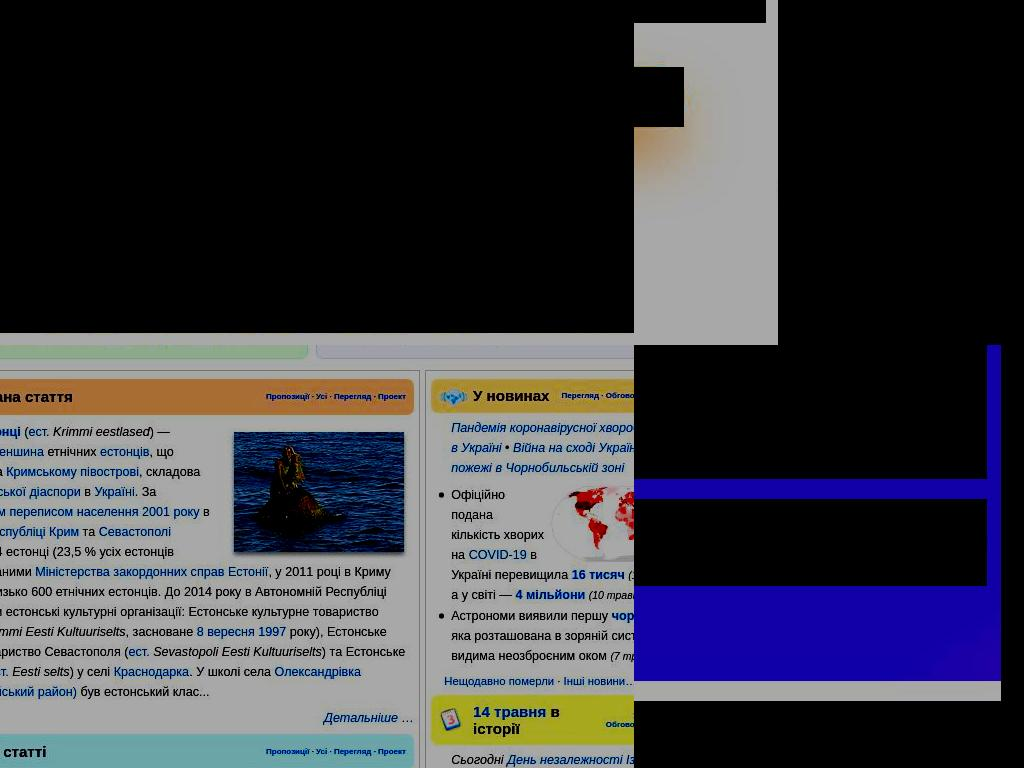button: (0, 0, 634, 333), (634, 701, 1024, 768), (833, 319, 873, 345)
heading: (634, 345, 987, 479), (0, 271, 241, 296)
image: (0, 0, 634, 333), (778, 0, 1024, 345), (634, 701, 1024, 768), (234, 431, 404, 552), (551, 484, 634, 562), (439, 708, 462, 732), (439, 389, 469, 406), (848, 331, 858, 345)
link: (0, 664, 361, 699), (451, 441, 634, 476), (35, 564, 269, 579), (0, 504, 200, 519), (451, 421, 634, 436), (6, 464, 140, 479), (507, 753, 634, 768), (513, 441, 634, 456), (444, 674, 555, 687), (324, 710, 415, 725), (473, 703, 546, 721), (0, 484, 82, 499), (0, 524, 79, 539), (113, 664, 189, 679), (98, 524, 171, 539), (515, 587, 586, 602), (563, 674, 634, 687), (196, 624, 255, 639), (468, 547, 527, 562), (571, 567, 625, 582), (451, 441, 503, 456), (99, 444, 150, 459), (0, 444, 44, 459), (94, 484, 135, 499), (258, 624, 287, 639), (266, 392, 309, 402), (266, 747, 309, 757), (333, 392, 371, 402), (333, 747, 371, 757), (561, 391, 599, 401), (28, 424, 51, 439), (128, 644, 151, 659), (611, 608, 634, 623), (378, 392, 407, 402), (378, 747, 407, 757), (605, 391, 634, 401), (605, 720, 634, 730), (0, 664, 9, 679), (316, 392, 328, 402), (316, 747, 328, 757)
text: (634, 499, 987, 586), (0, 564, 391, 639), (0, 644, 405, 679), (0, 624, 387, 659), (451, 608, 634, 663), (451, 487, 545, 562), (0, 464, 200, 499), (451, 567, 634, 602), (0, 544, 174, 579), (0, 444, 173, 479), (451, 547, 572, 582), (473, 703, 560, 738), (0, 388, 159, 406), (153, 644, 323, 659), (451, 608, 613, 623), (0, 743, 132, 761), (76, 684, 210, 699), (0, 624, 126, 639), (53, 424, 151, 439), (473, 387, 552, 405), (189, 664, 276, 679), (125, 624, 197, 639), (12, 664, 71, 679), (44, 444, 101, 459), (451, 753, 508, 768), (69, 664, 114, 679), (588, 588, 634, 601), (134, 484, 156, 499), (149, 424, 170, 439), (79, 524, 100, 539), (610, 649, 634, 662), (80, 484, 95, 499), (501, 441, 513, 456), (199, 504, 210, 519), (554, 674, 565, 687), (20, 424, 28, 439), (309, 392, 317, 402), (327, 392, 335, 402), (371, 392, 379, 402), (309, 747, 317, 757), (327, 747, 335, 757), (371, 747, 379, 757), (599, 391, 607, 401)
